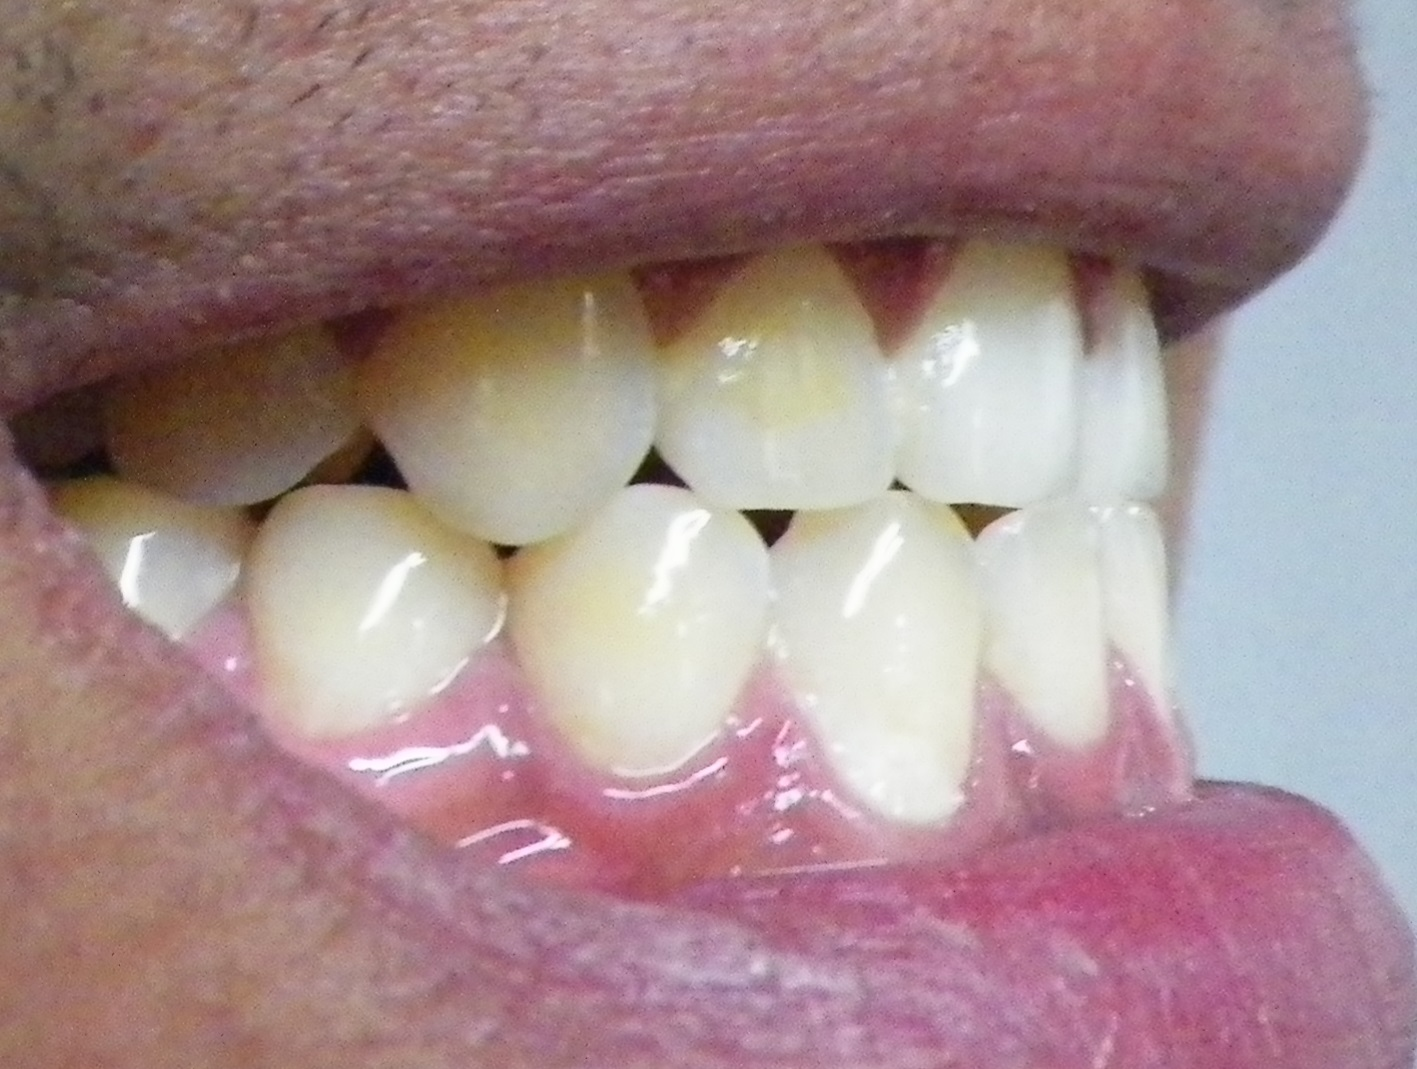boca: (88, 257, 1204, 814)
